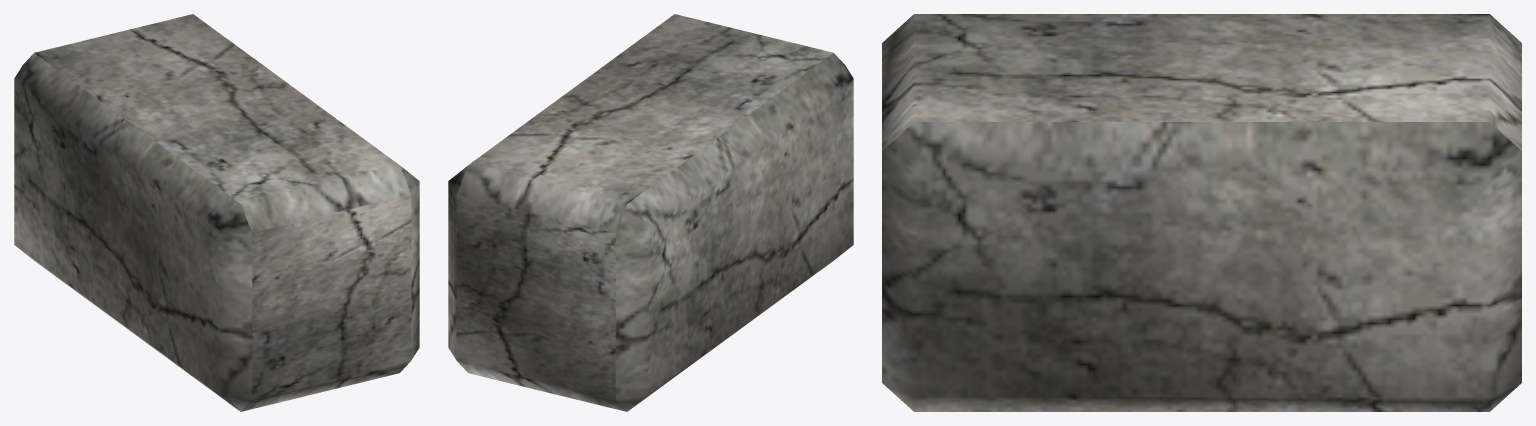
The model's file is BLOCK02.fbx.
3 views of the same model, side by side, from view 1: azimuth 30°, elevation 25°; view 2: azimuth 150°, elevation 25°; view 3: azimuth 270°, elevation 25° (orthographic). The views are drawn at different scales.
Parts seen in each view (by area): view 1: BLOCK02; view 2: BLOCK02; view 3: BLOCK02.
Boxes of the visible parts, box(x1,y1,x2,y2) form: BLOCK02: box(14, 14, 419, 411); BLOCK02: box(448, 14, 853, 411); BLOCK02: box(882, 14, 1521, 411).
Bounding box in the file's own units: 10000 × 10000 × 20000.
1 material, 1 textured.
